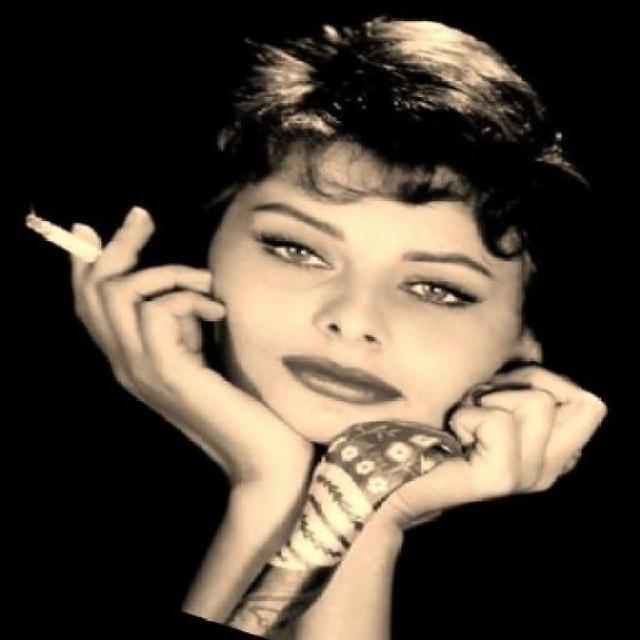smoke: (16, 209, 110, 266)
